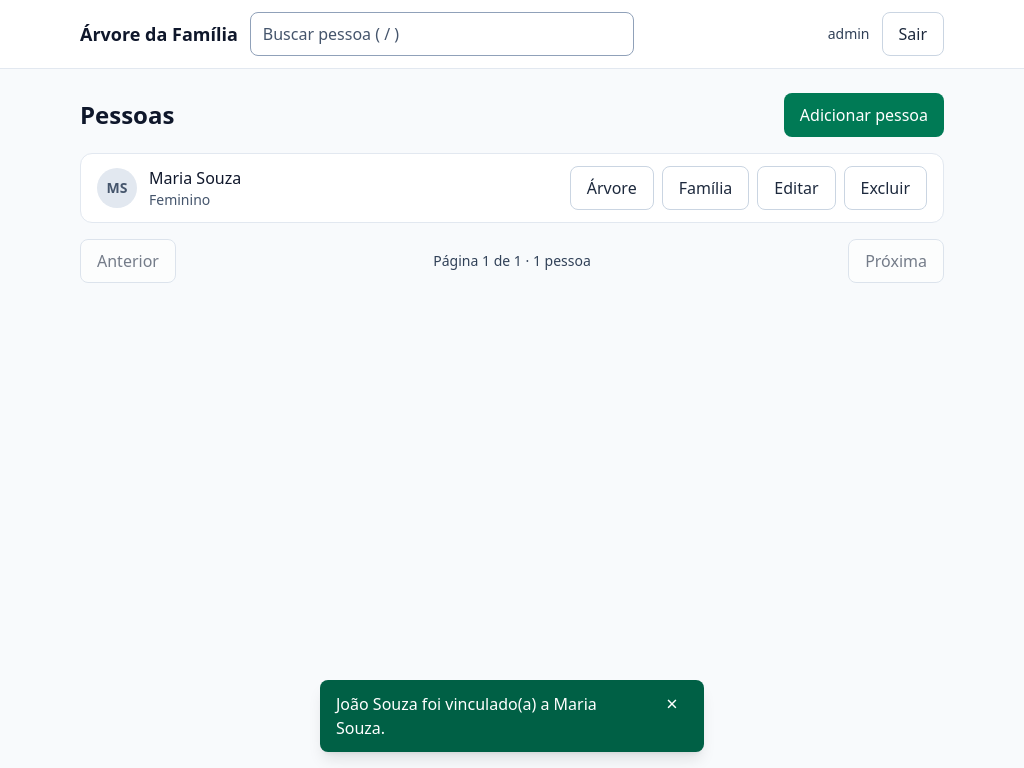
Scenario: relacionamentos na UI › remover vinculo pede confirmacao e so remove ao confirmar
Click the button "Família": (706,188) [662,166,749,210]
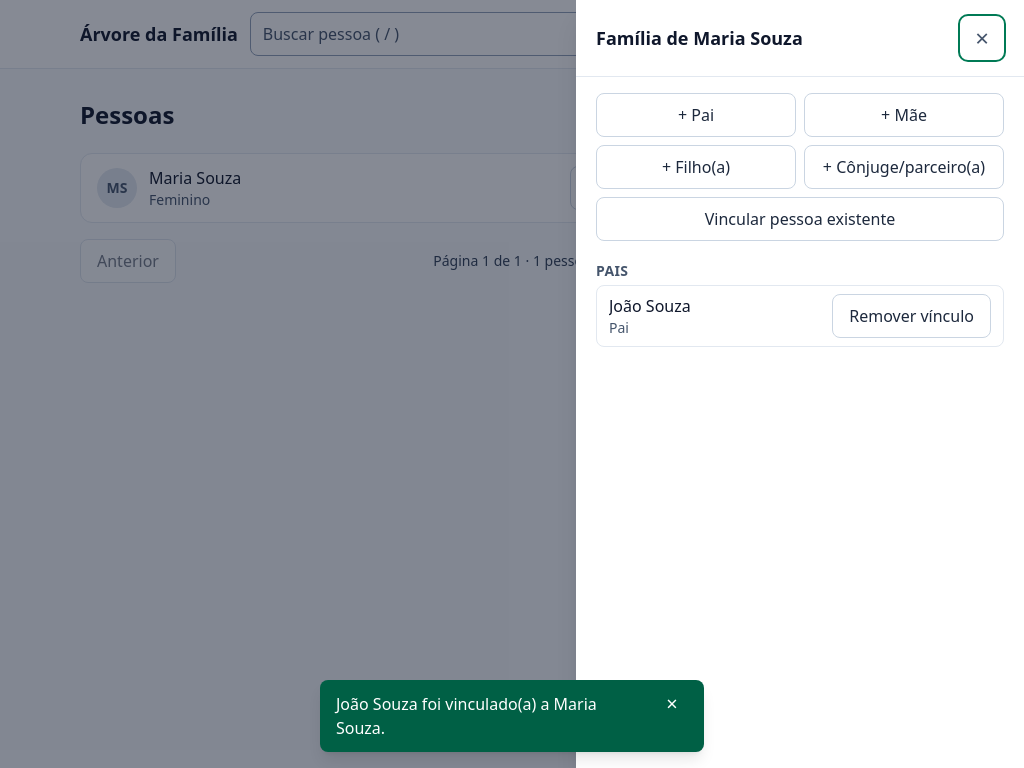
Click the button "Remover vínculo": (912,316) [832,294,991,338]
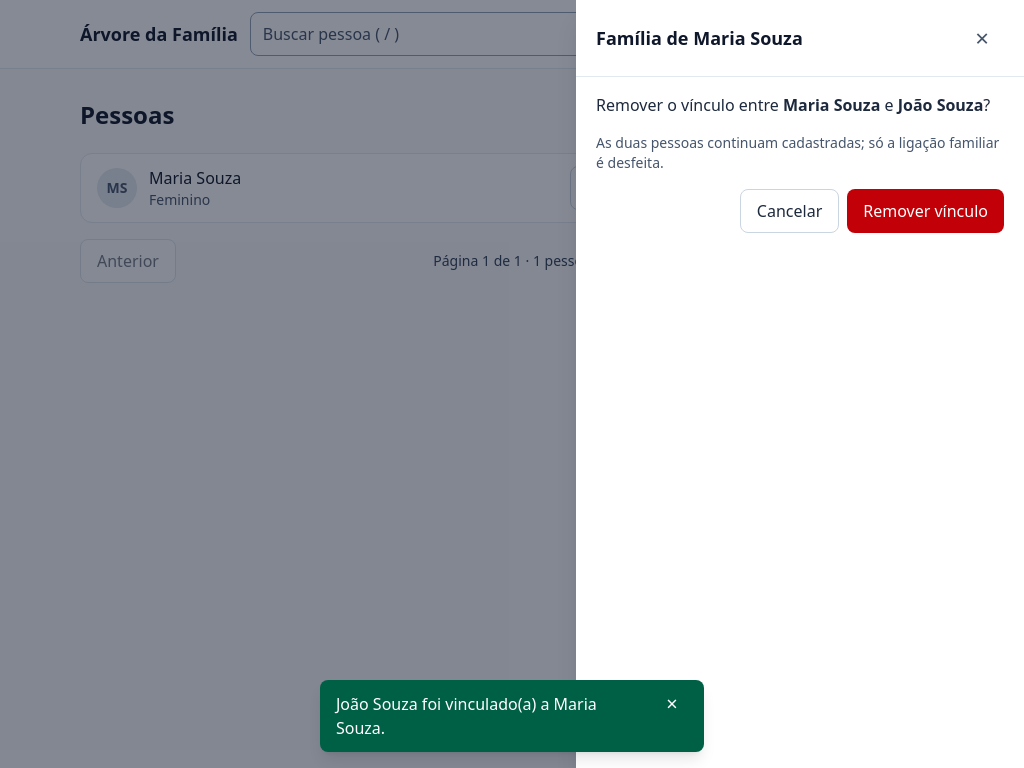
Click the button "Cancelar": (790,211) [740,189,839,233]
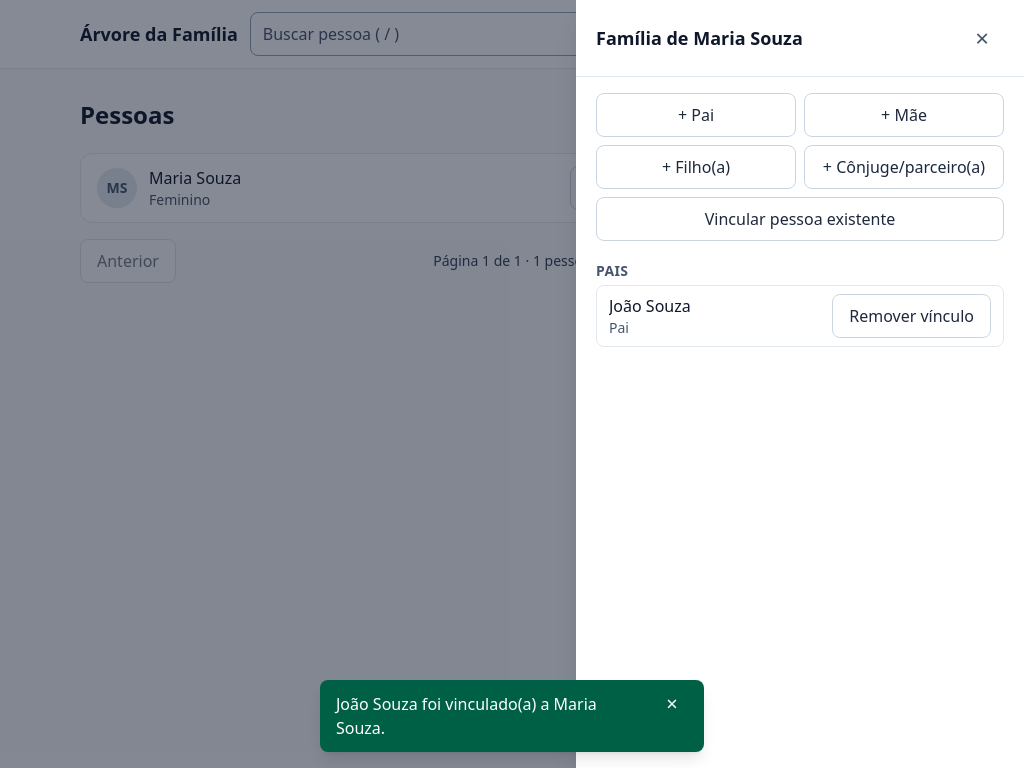
Click the button "Remover vínculo": (912,316) [832,294,991,338]
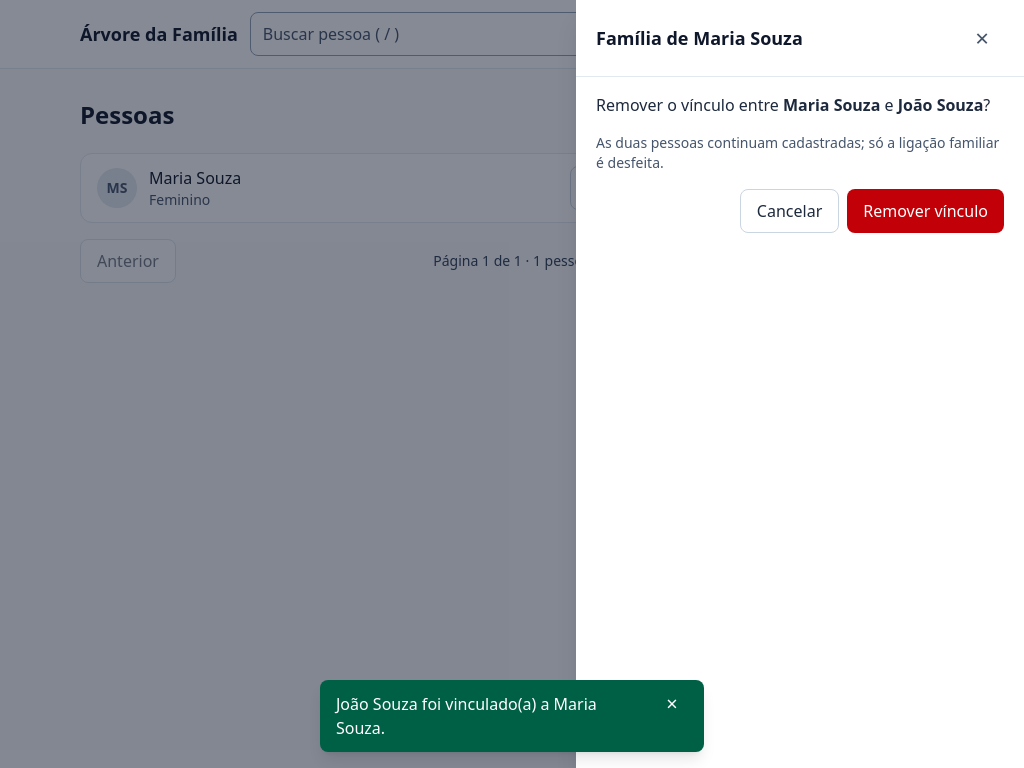
Click the button "Remover vínculo": (926,211) [847,189,1004,233]
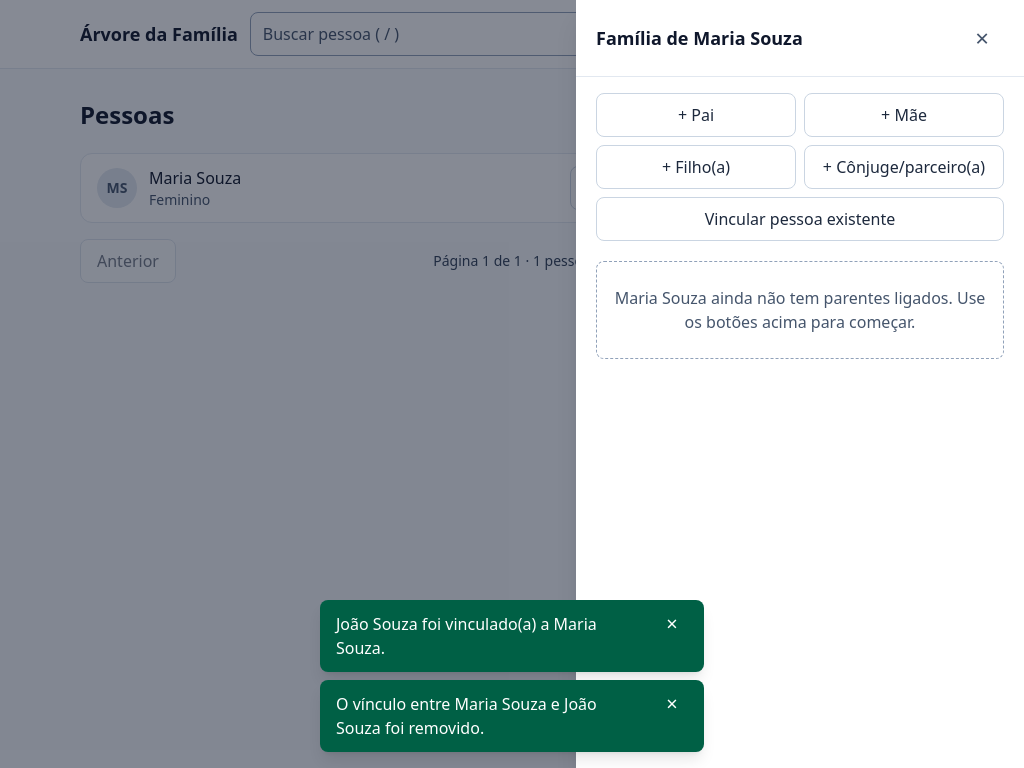
Check: the text "O vínculo entre Maria Souza e João Souza foi removido." is shown, box [336,693,597,739]
